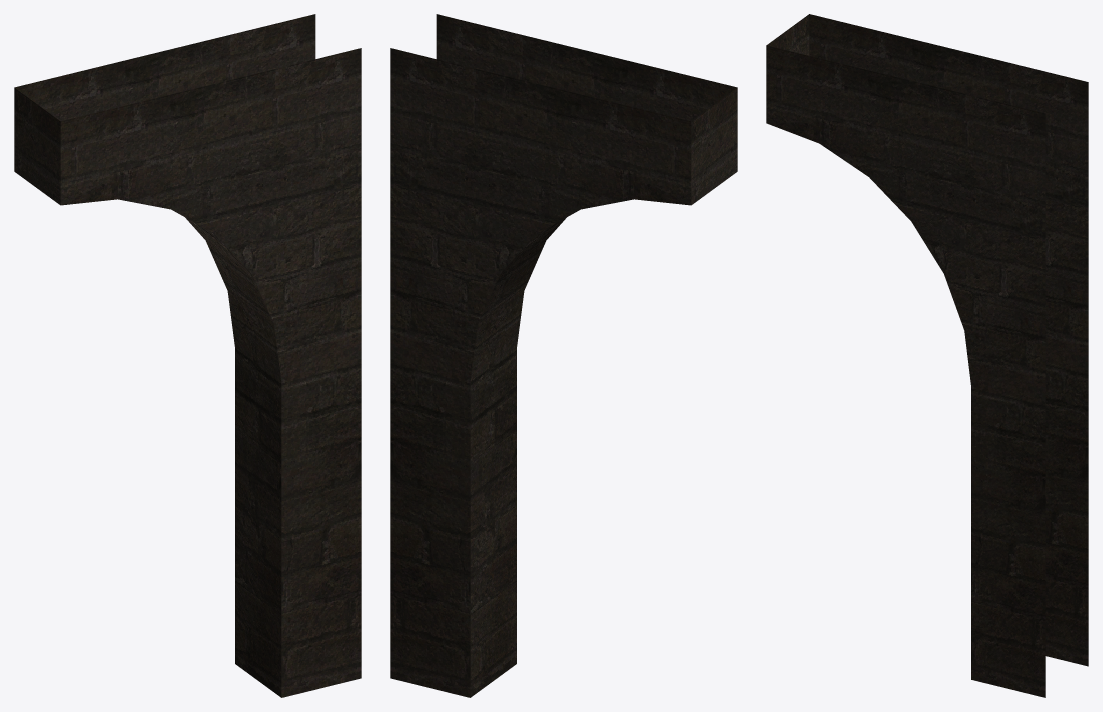
File: half_arc_pillar_1_wall_1_plain.glb
The picture shows the model from 3 angles, left to right: view 1: azimuth 30°, elevation 25°; view 2: azimuth 150°, elevation 25°; view 3: azimuth 330°, elevation 25°; orthographic projection. The views are drawn at different scales.
Visible parts, largest first — view 1: half_arc_pillar_1_wall_1_plain; view 2: half_arc_pillar_1_wall_1_plain; view 3: half_arc_pillar_1_wall_1_plain.
Part boxes in pixels (x1,y1,x2,y2): half_arc_pillar_1_wall_1_plain: (14,14,361,697); half_arc_pillar_1_wall_1_plain: (390,14,737,697); half_arc_pillar_1_wall_1_plain: (766,14,1088,697).
Size of the model in its own units: 1.5 by 3 by 0.4.
1 material, 1 textured.
